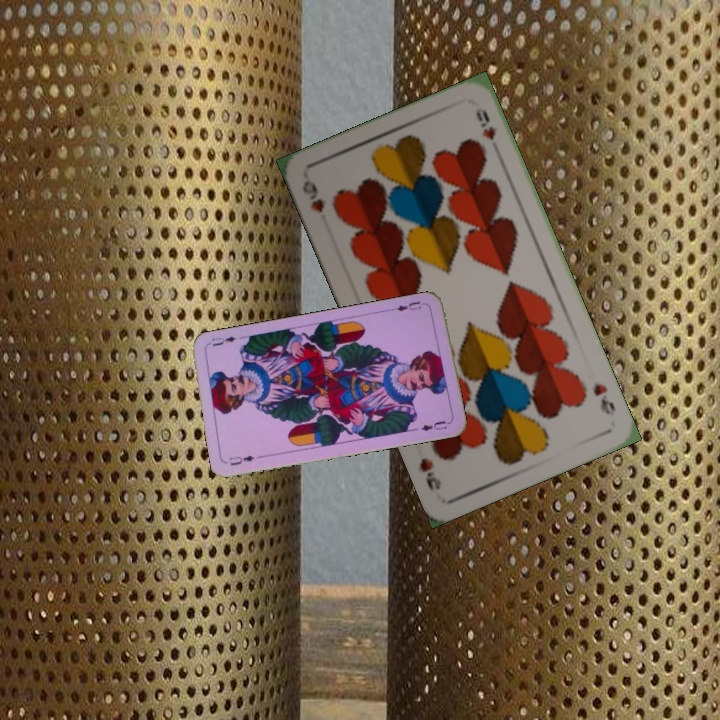EU: (388, 297, 429, 314), (225, 451, 257, 468)
H9: (589, 377, 619, 419), (298, 176, 328, 216)
